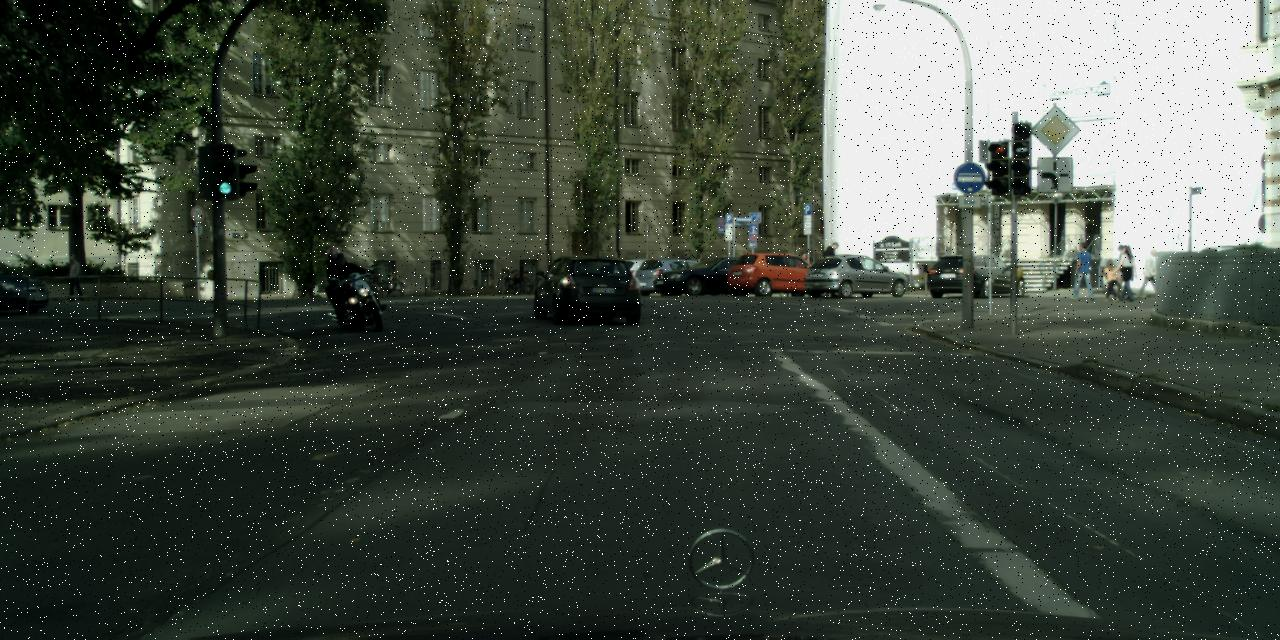ped: (336, 252, 362, 315), (332, 246, 357, 308), (1070, 241, 1094, 299), (1111, 244, 1134, 299), (821, 241, 843, 296), (1141, 248, 1161, 296), (65, 254, 84, 299), (1101, 259, 1118, 300), (796, 252, 810, 287)
